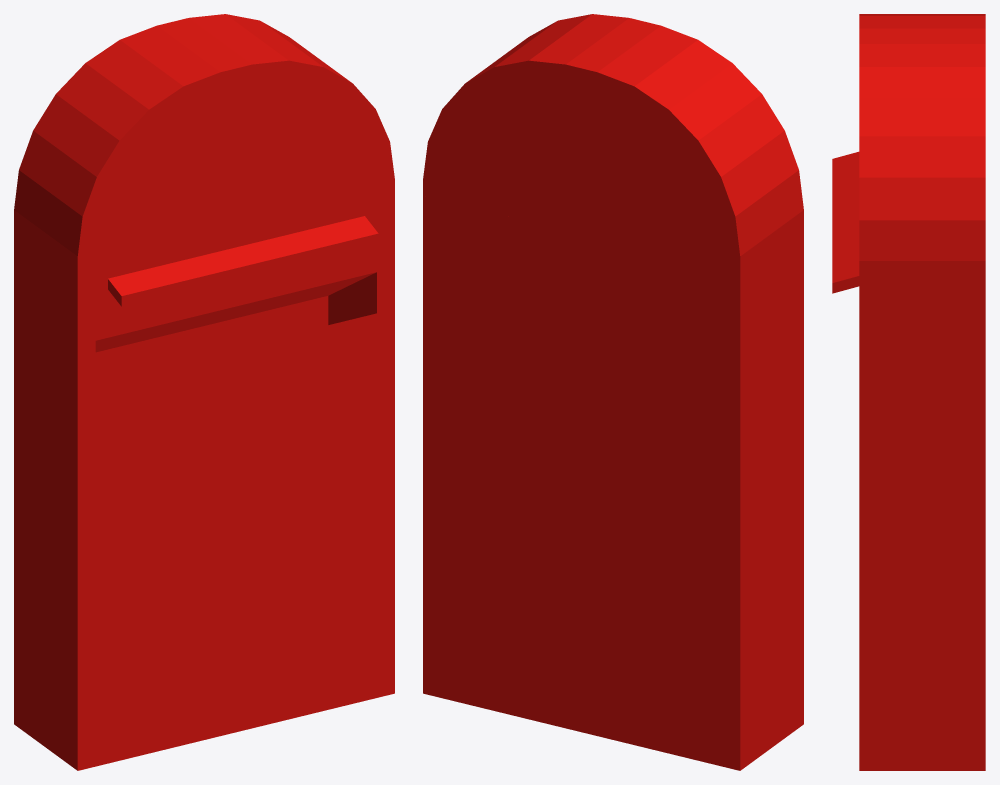
Rendered from Mail_box.fbx.
The picture shows the model from 3 angles, left to right: view 1: azimuth 30°, elevation 25°; view 2: azimuth 150°, elevation 25°; view 3: azimuth 270°, elevation 25°; orthographic projection.
Visible parts, largest first — view 1: Plane.052; view 2: Plane.052; view 3: Plane.052.
Boxes of the visible parts, x1,y1,x2,y2 form: Plane.052: (14,14,394,770); Plane.052: (423,14,803,770); Plane.052: (832,14,985,770).
Size of the model in its own units: 61.83 by 124 by 26.16.
